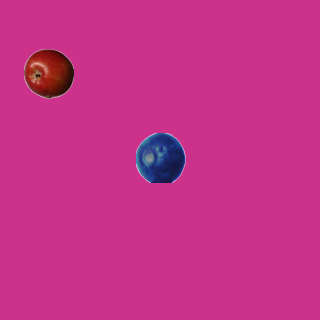Apple Braeburn: (23, 48, 73, 98)
Huckleberry: (135, 132, 185, 182)
